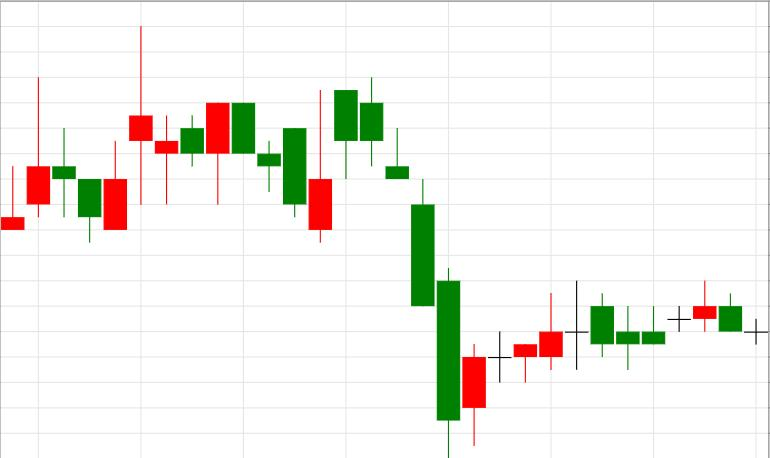inverse_hammer_rise: (207, 90, 331, 243)
